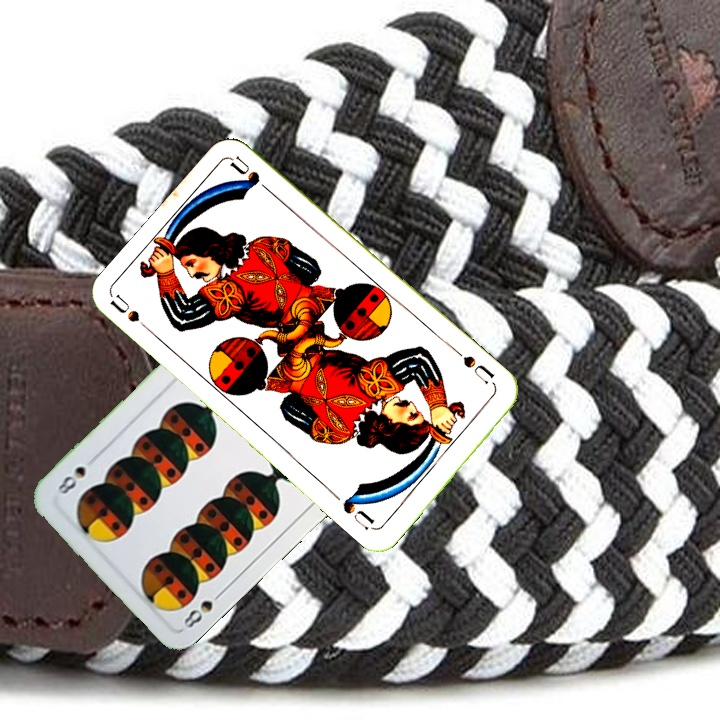S8: (179, 585, 228, 631)
SU: (107, 291, 158, 339), (459, 351, 497, 387)
